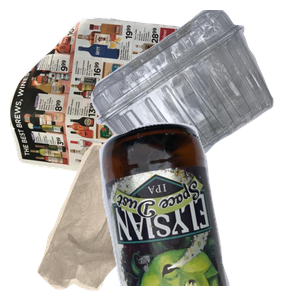glass: (97, 120, 300, 300)
paper: (10, 15, 196, 195)
plastic: (88, 10, 300, 180)
trash: (35, 140, 203, 300)
